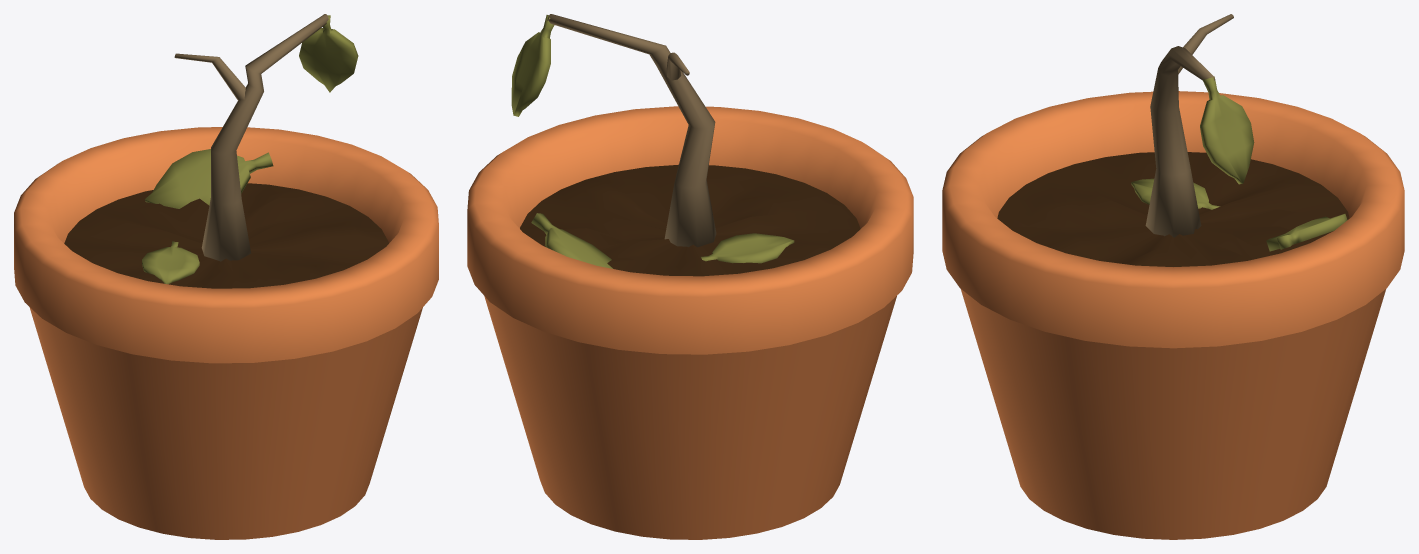
Rendered from deadPlant.fbx.
The picture shows the model from 3 angles, left to right: view 1: azimuth 30°, elevation 25°; view 2: azimuth 150°, elevation 25°; view 3: azimuth 270°, elevation 25°; orthographic projection. The views are drawn at different scales.
Parts seen in each view (by area): view 1: Dead Plant; view 2: Dead Plant; view 3: Dead Plant.
Boxes of the visible parts, bbox=[...] form: Dead Plant: bbox=[14, 14, 438, 539]; Dead Plant: bbox=[467, 14, 913, 539]; Dead Plant: bbox=[942, 14, 1404, 539].
Size of the model in its own units: 539 by 539 by 593.
